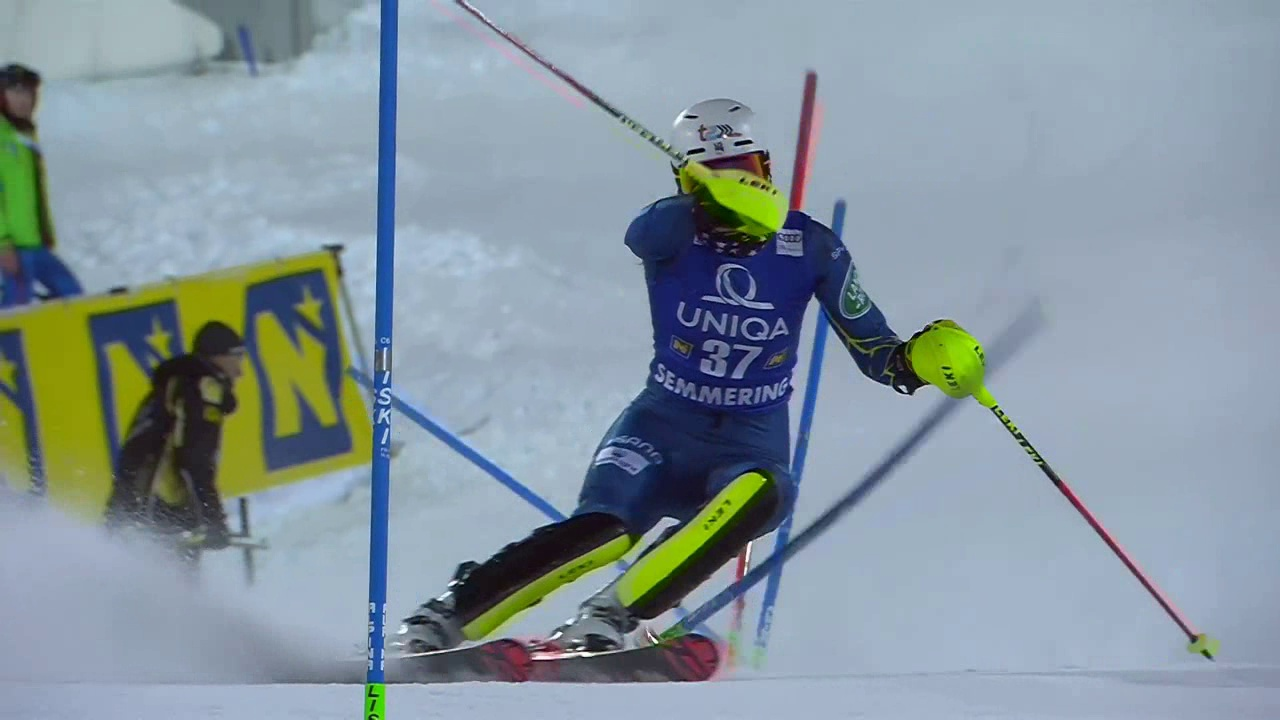uniqa: (677, 262, 789, 355)
